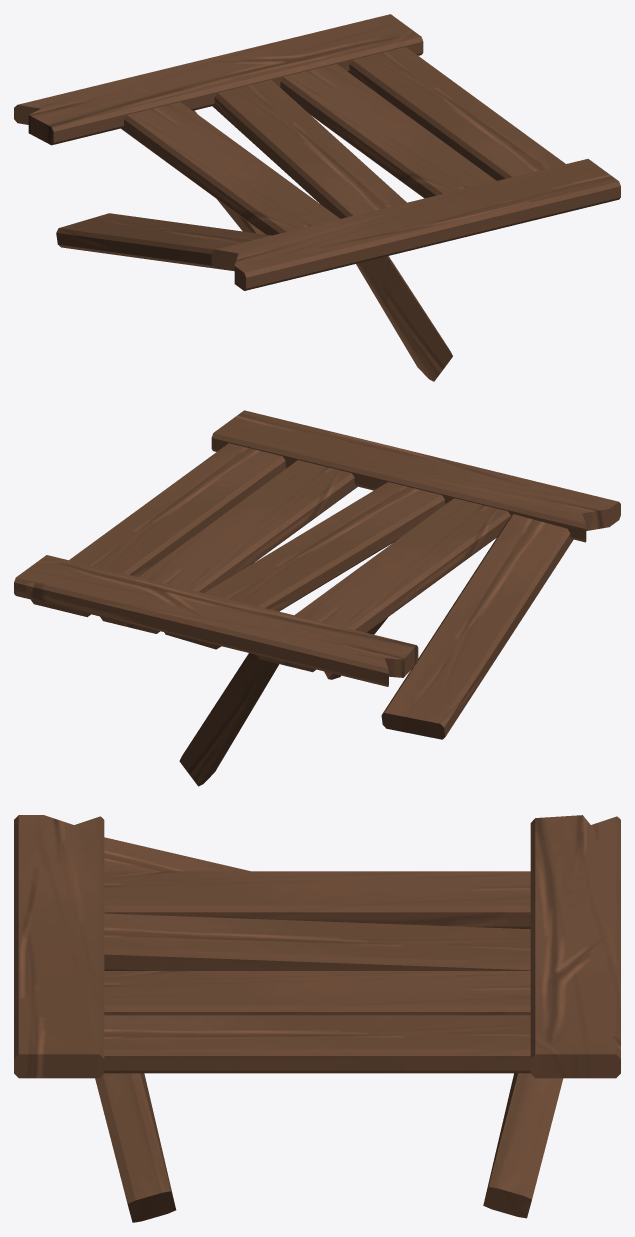
The model's file is Broken Bridge.FBX.
3 renders of one model, top to bottom at view 1: azimuth 30°, elevation 25°; view 2: azimuth 150°, elevation 25°; view 3: azimuth 270°, elevation 25°, orthographic. The views are drawn at different scales.
Visible parts, largest first — view 1: Box089; view 2: Box089; view 3: Box089.
Boxes of the visible parts, x1,y1,x2,y2 form: Box089: (14, 14, 620, 381); Box089: (14, 410, 620, 786); Box089: (14, 815, 620, 1222).
Bounding box in the file's own units: 10.11 × 10.66 × 5.01.
